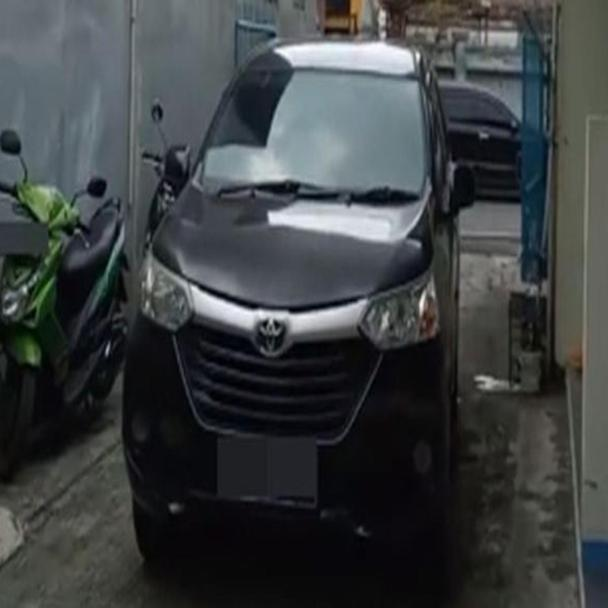Mobil: (120, 45, 461, 560)
